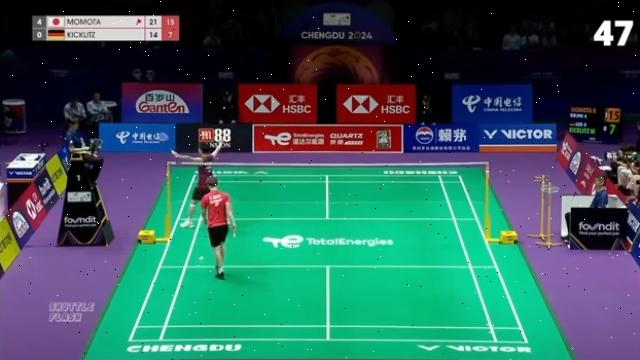Shuttlecock: (196, 253, 206, 262)
